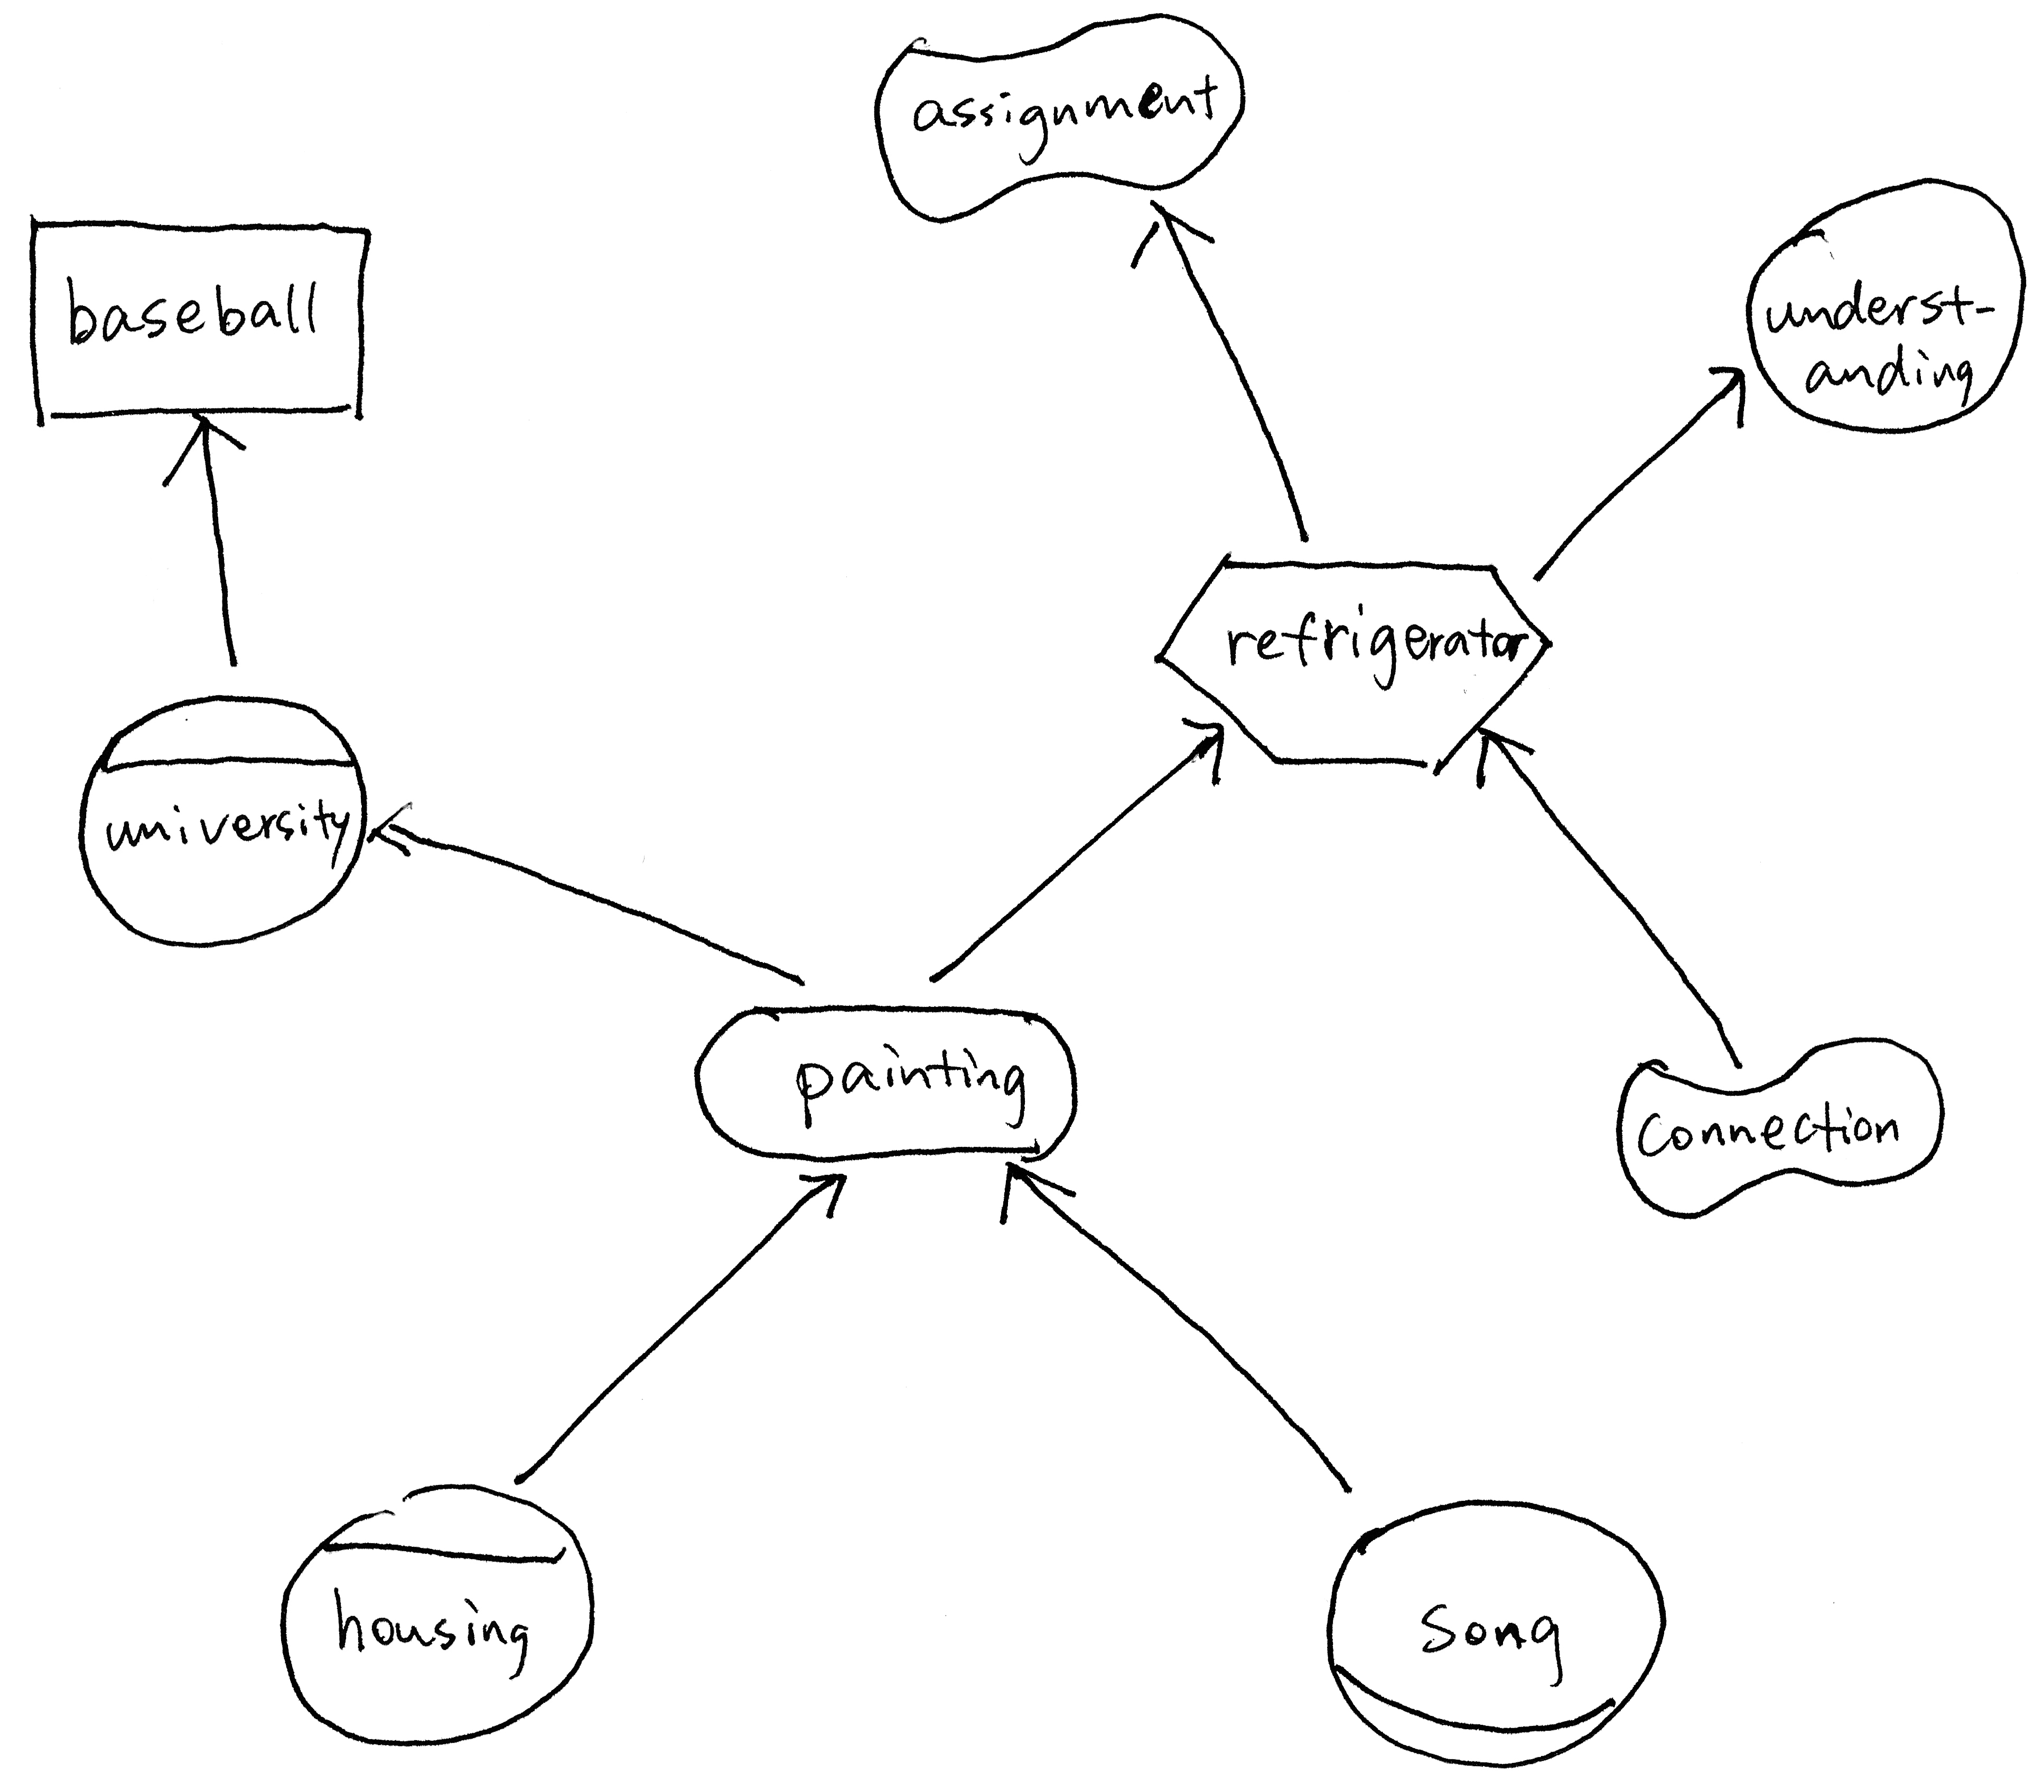actor: (1724, 160, 2044, 457)
agent: (257, 1460, 615, 1762), (63, 678, 384, 958)
arrow: (144, 403, 268, 508), (1107, 186, 1234, 285), (1152, 690, 1255, 812), (977, 1135, 1097, 1238), (1437, 706, 1552, 810), (773, 1138, 873, 1239), (1682, 339, 1780, 441), (344, 780, 440, 879)
goal: (680, 979, 1105, 1191)
quality: (862, 2, 1257, 235), (1599, 1015, 1968, 1239)
resource: (7, 188, 395, 450)
role: (1300, 1479, 1677, 1775)
task: (1140, 528, 1563, 786)
